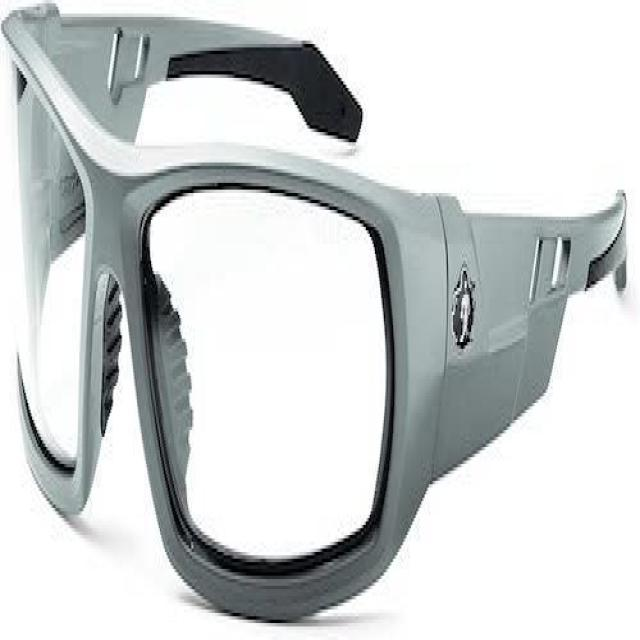goggles: (0, 0, 630, 630)
